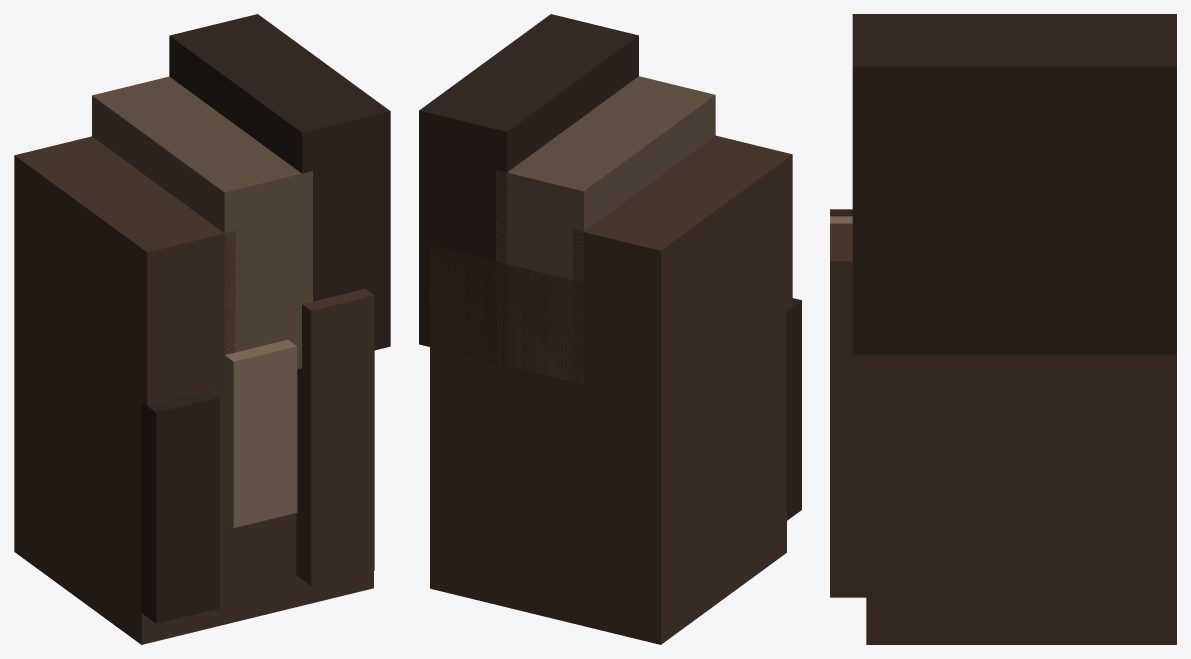
Rendered from CMU3DPlatformStrataRockCornerSmall.glb.
3 views of the same model, side by side, from view 1: azimuth 30°, elevation 25°; view 2: azimuth 150°, elevation 25°; view 3: azimuth 270°, elevation 25° (orthographic). The views are drawn at different scales.
Parts seen in each view (by area): view 1: broken rock crown (×3), rock edge core, fractured rock face (×3); view 2: rock edge core, broken rock crown (×3), fractured rock face; view 3: broken rock crown, rock edge core, fractured rock face.
Part boxes in pixels (left/top/right/bottom): broken rock crown (×3): left=14, top=14, right=390, bottom=405; rock edge core: left=14, top=206, right=373, bottom=644; fractured rock face (×3): left=141, top=288, right=374, bottom=623; rock edge core: left=430, top=237, right=786, bottom=644; broken rock crown (×3): left=419, top=14, right=792, bottom=402; fractured rock face: left=787, top=298, right=801, bottom=520; broken rock crown: left=852, top=14, right=1176, bottom=354; rock edge core: left=866, top=354, right=1176, bottom=644; fractured rock face: left=830, top=223, right=866, bottom=597.
Bounding box in the file's own units: 0.199 × 0.374 × 0.201.
